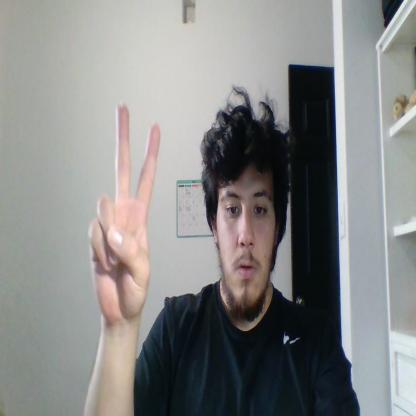V: (89, 103, 161, 323)
